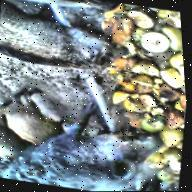boar: (10, 99, 184, 192), (0, 1, 138, 106)
